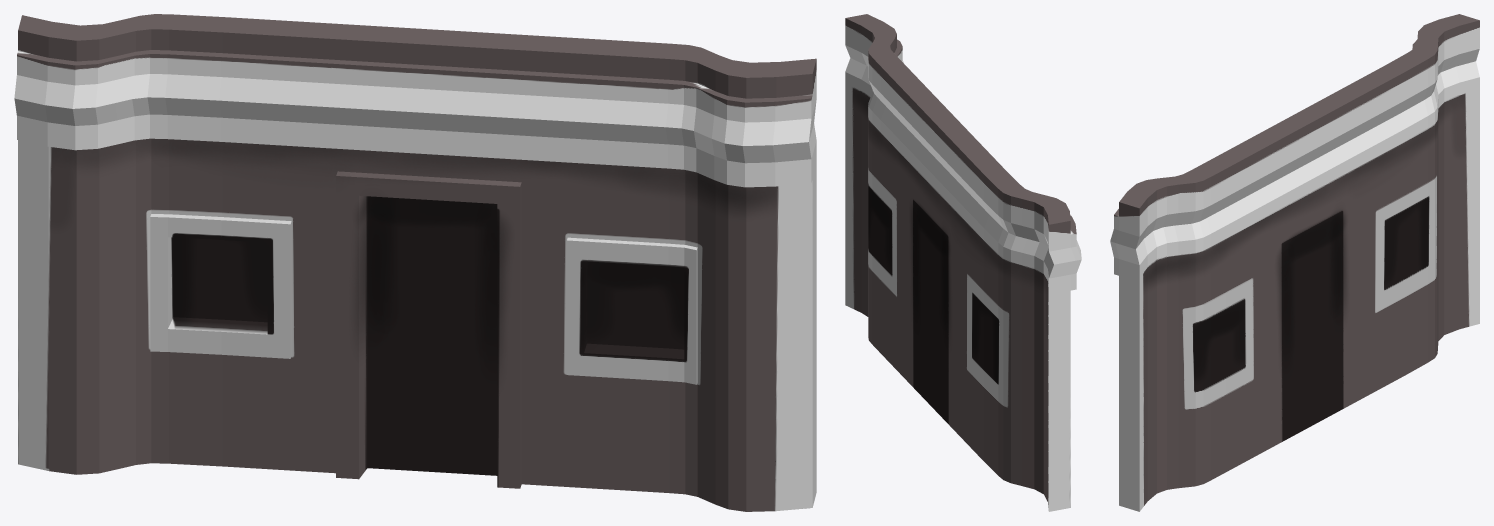
File: casa3.fbx
3 renders of one model, left to right at view 1: azimuth 30°, elevation 25°; view 2: azimuth 150°, elevation 25°; view 3: azimuth 270°, elevation 25°, orthographic. The views are drawn at different scales.
Visible parts, largest first — view 1: casa3; view 2: casa3; view 3: casa3.
Part boxes in pixels (left/top/right/bottom): casa3: left=14, top=14, right=816, bottom=511; casa3: left=845, top=14, right=1081, bottom=511; casa3: left=1110, top=14, right=1479, bottom=511.
Size of the model in its own units: 248 by 177 by 196.
Materials: 1 (1 with a texture image).
